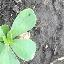Purslane: (0, 0, 48, 64)
